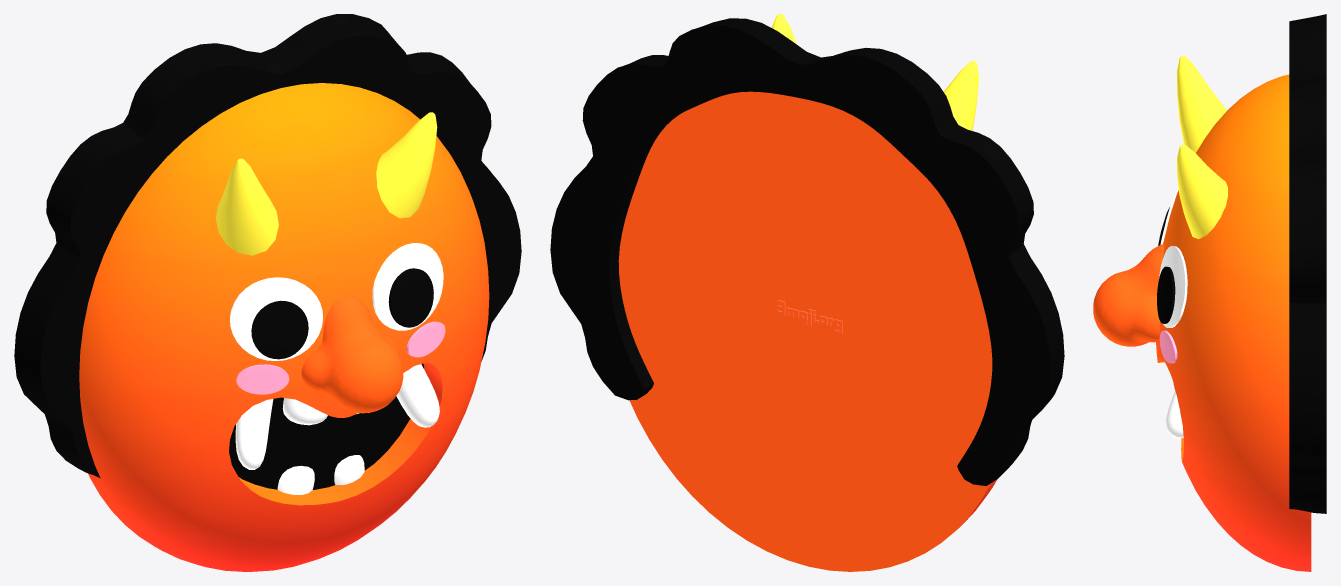
The model's file is ogre.gltf.
3 renders of one model, left to right at view 1: azimuth 30°, elevation 25°; view 2: azimuth 150°, elevation 25°; view 3: azimuth 270°, elevation 25°, orthographic. The views are drawn at different scales.
Parts seen in each view (by area): view 1: Ball.101; view 2: Ball.101; view 3: Ball.101.
Boxes of the visible parts, x1,y1,x2,y2 form: Ball.101: (14, 14, 521, 571); Ball.101: (550, 14, 1064, 571); Ball.101: (1093, 14, 1326, 571).
Bounding box in the file's own units: 2.04 × 2.07 × 0.8752.
Materials: 1 (1 with a texture image).
